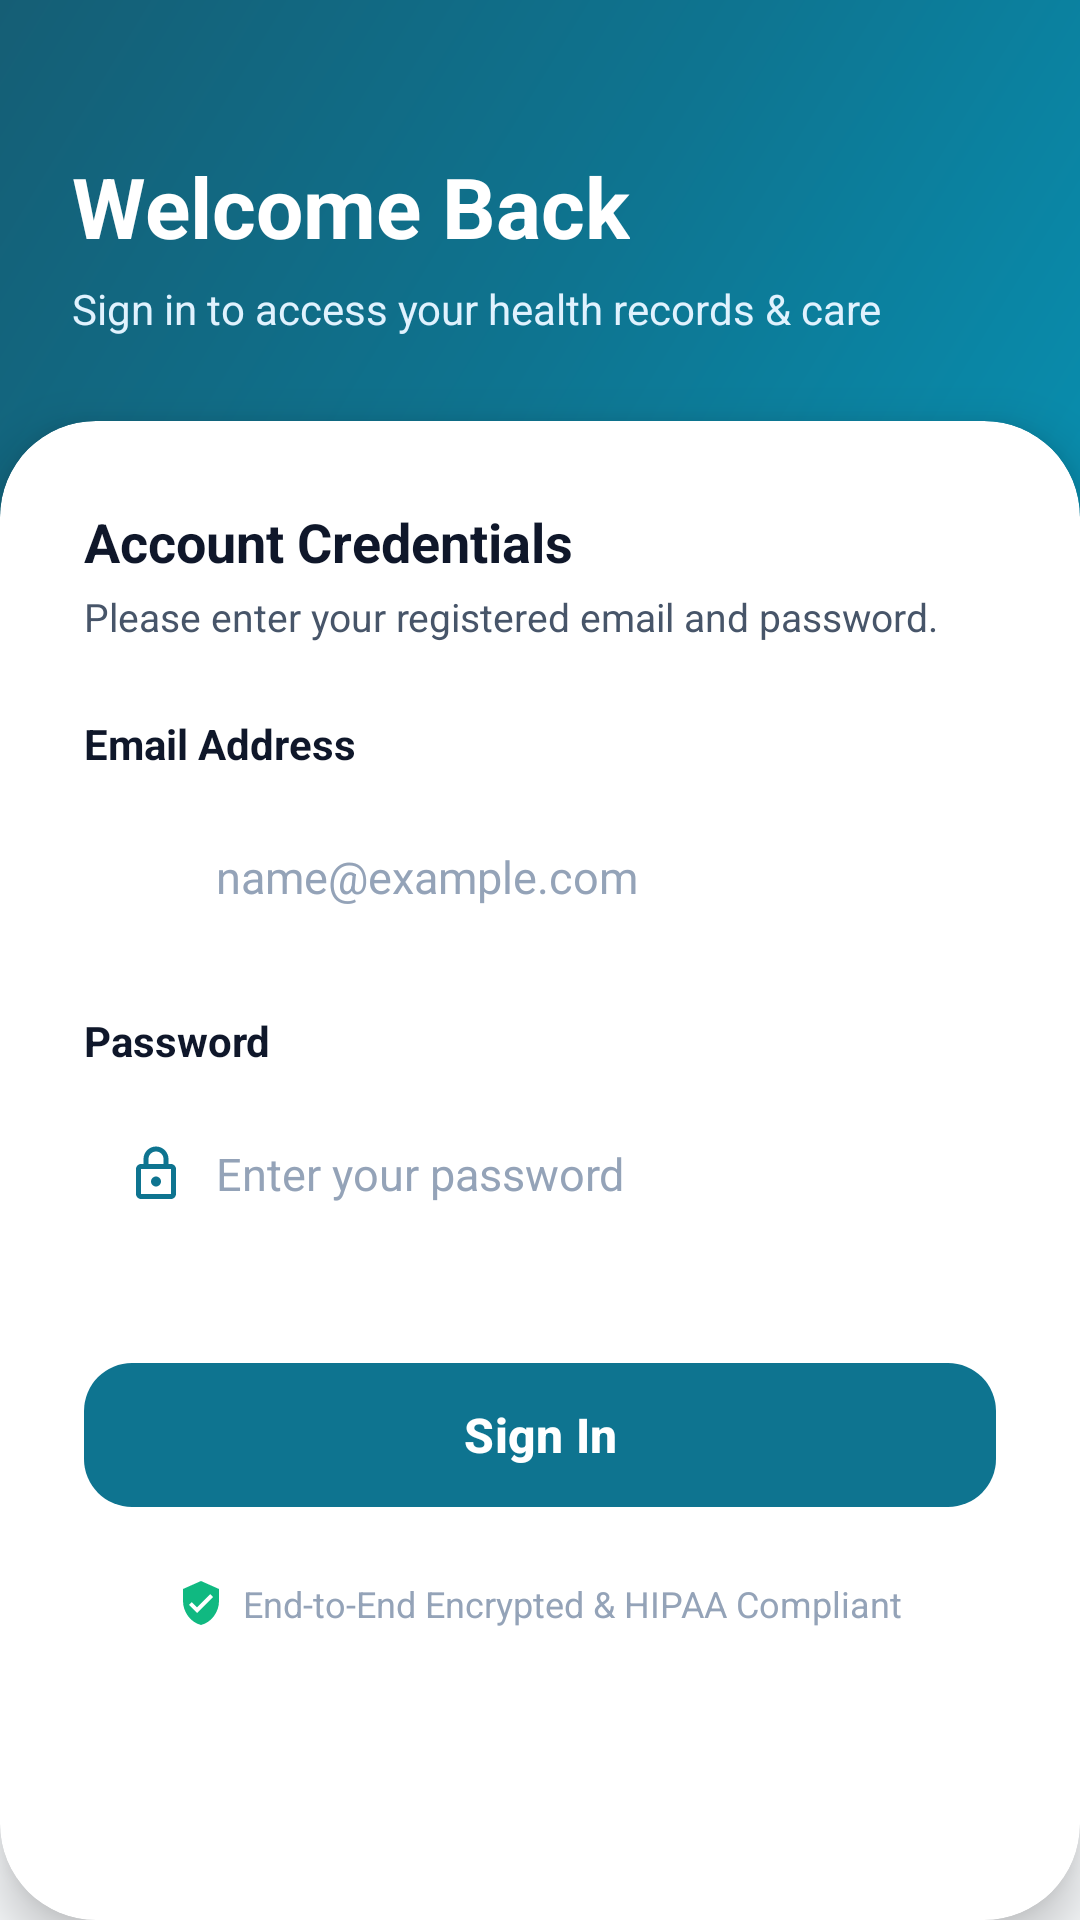

Icons on this 1080×1920 Android screen, each with its box as (x1, y1, x2, y2):
lock: (136, 1146, 176, 1199)
shield: (183, 1581, 219, 1625)
